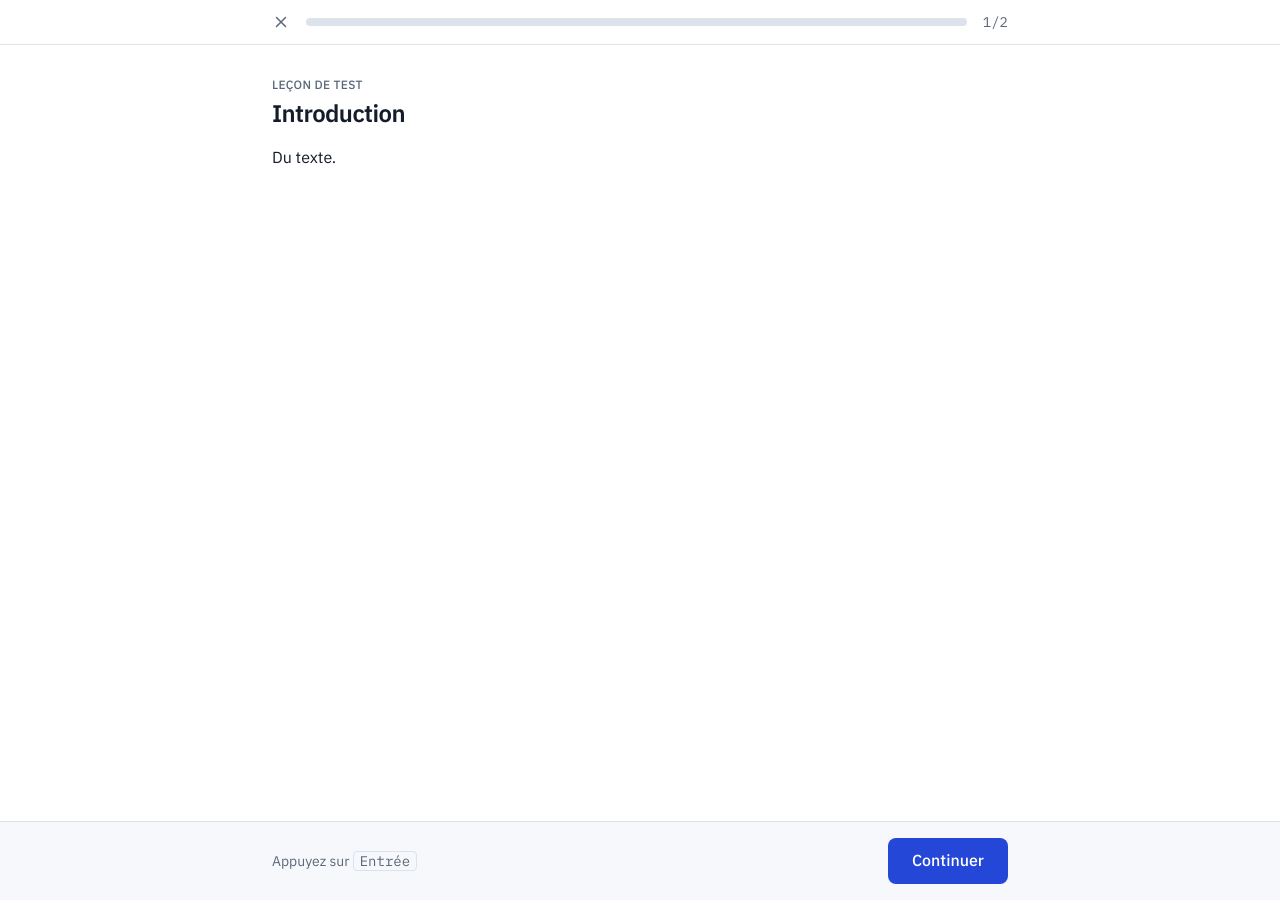
it: LessonPlayer › shows an incorrect answer with its label, explanation and solution
This screenshot has width=1280, height=900.
Expected: the heading "Introduction" is shown, [272,97,405,129]
Step 1. Press Enter
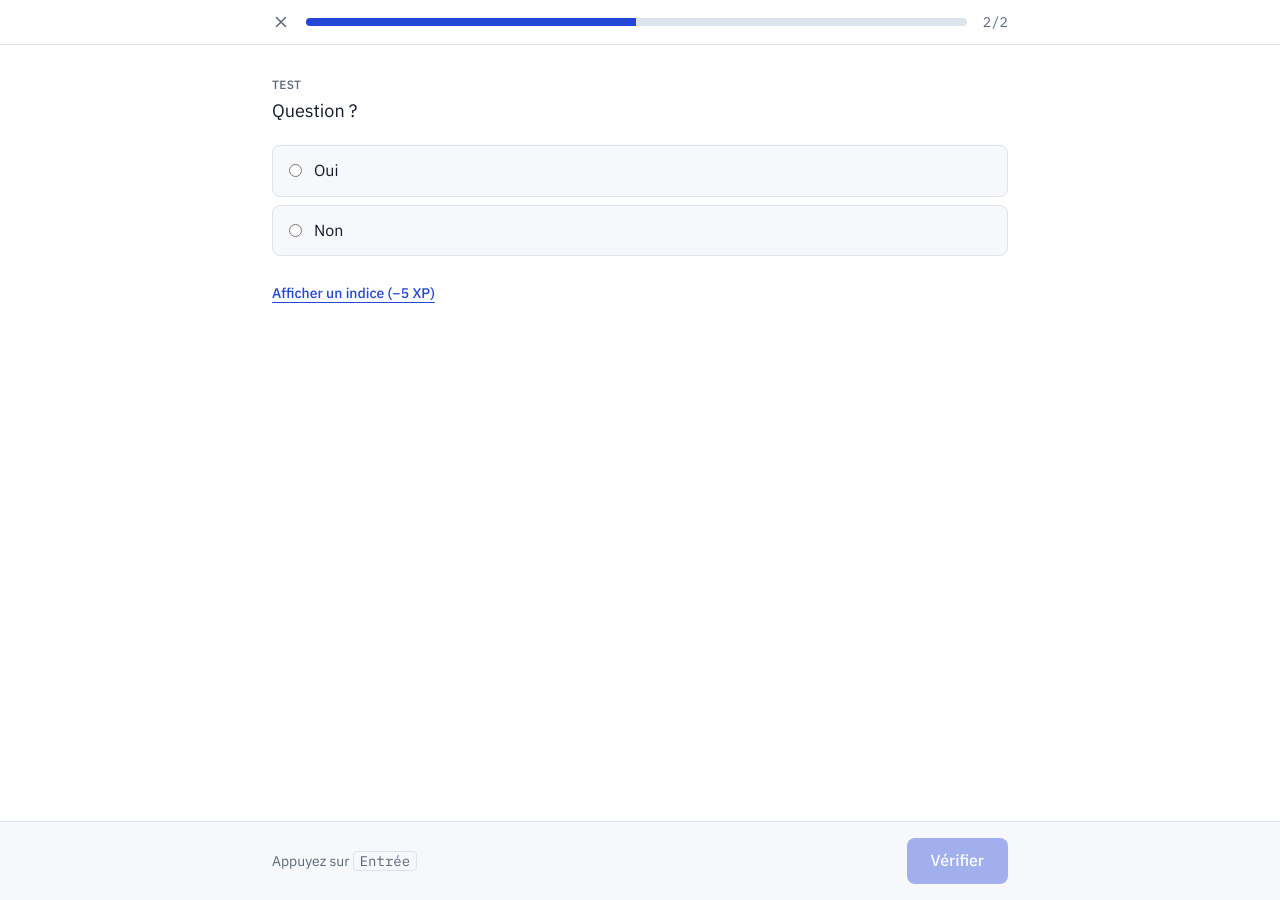
Step 2. Click the radio button labelled "Non" → (296, 230), box [289,224,302,237]
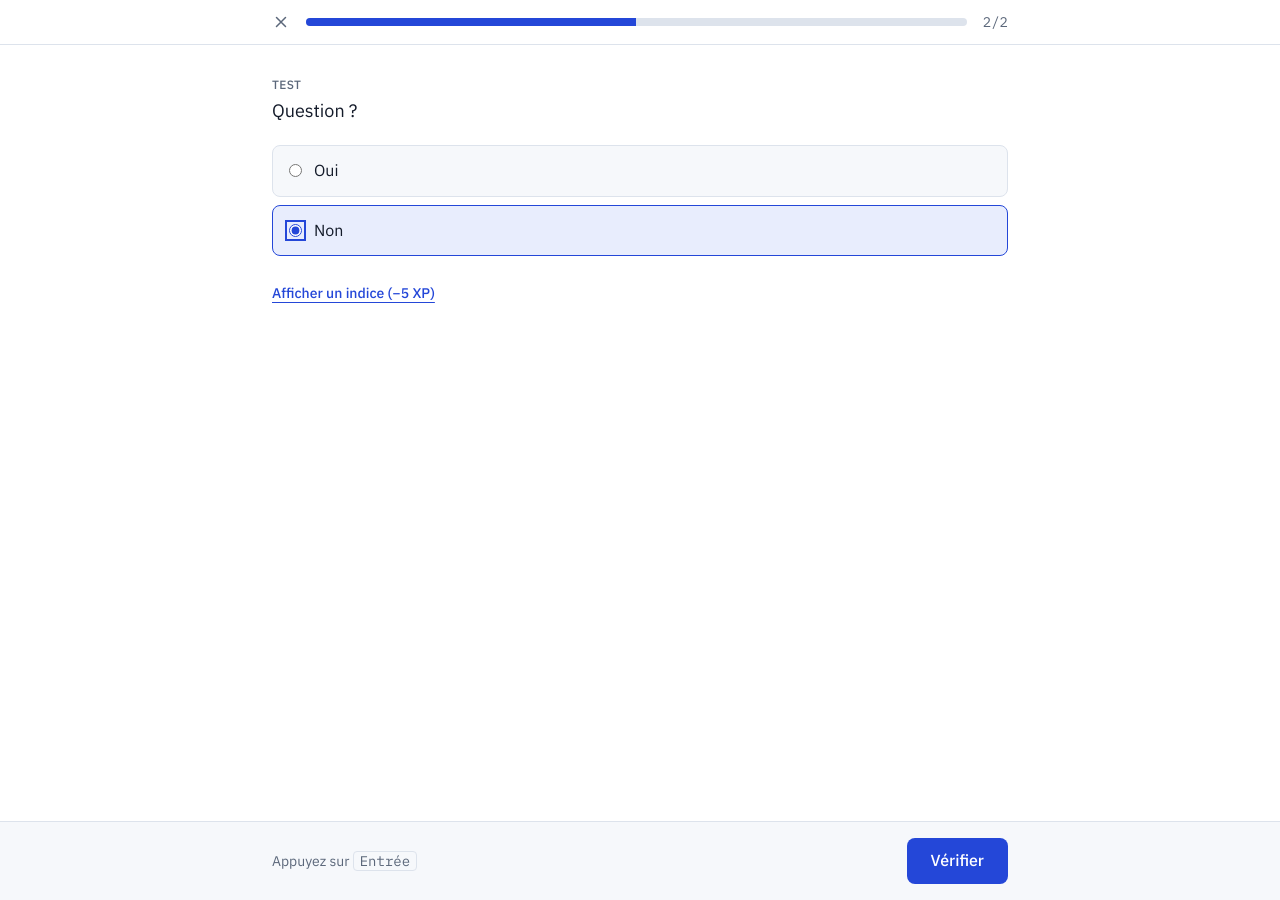
Step 3. Press Enter
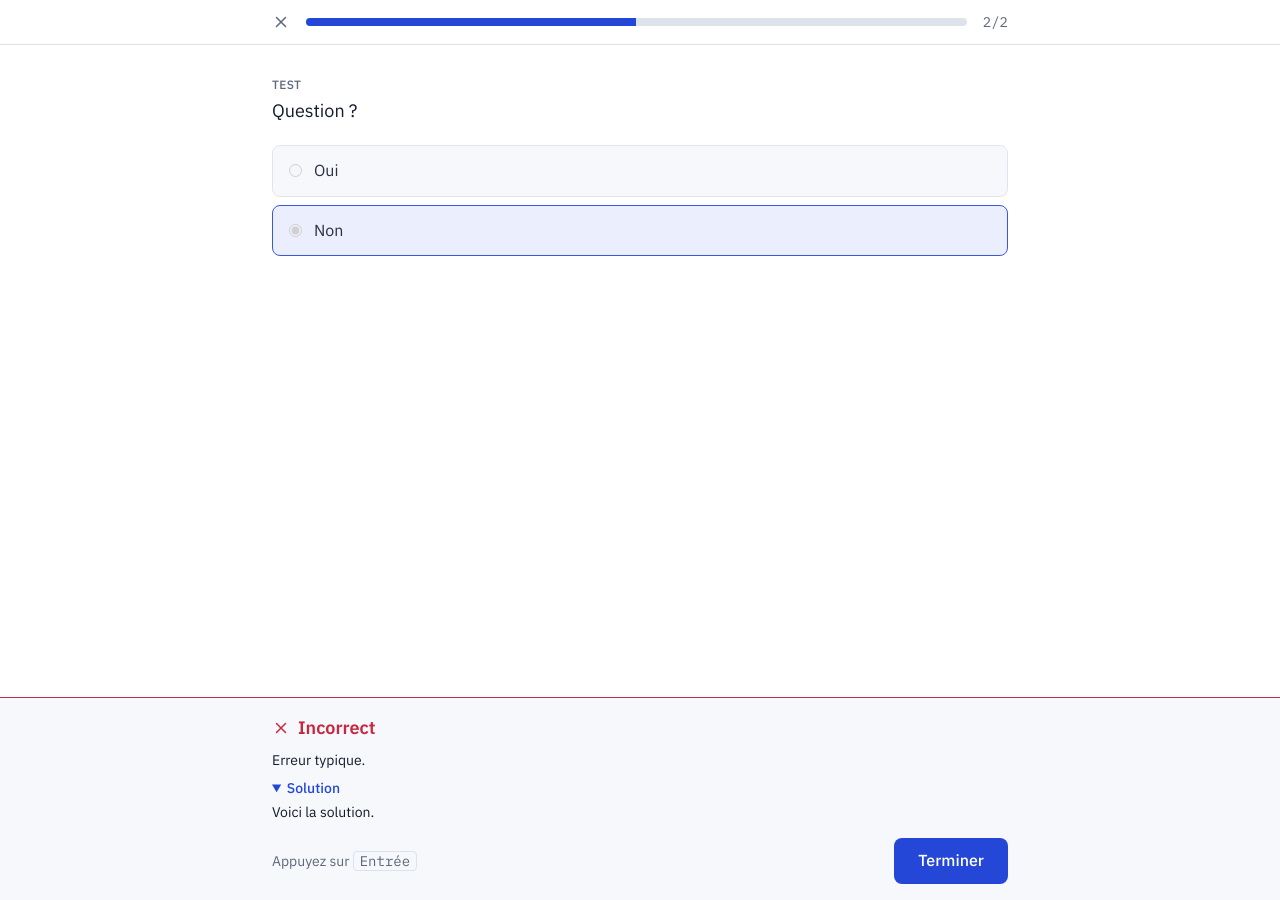
Now the text "Incorrect" is shown, box [272,716,376,739]
Now the text "Erreur typique." is shown, box [272,751,365,769]
Now the text "Voici la solution." is shown, box [272,803,374,821]
